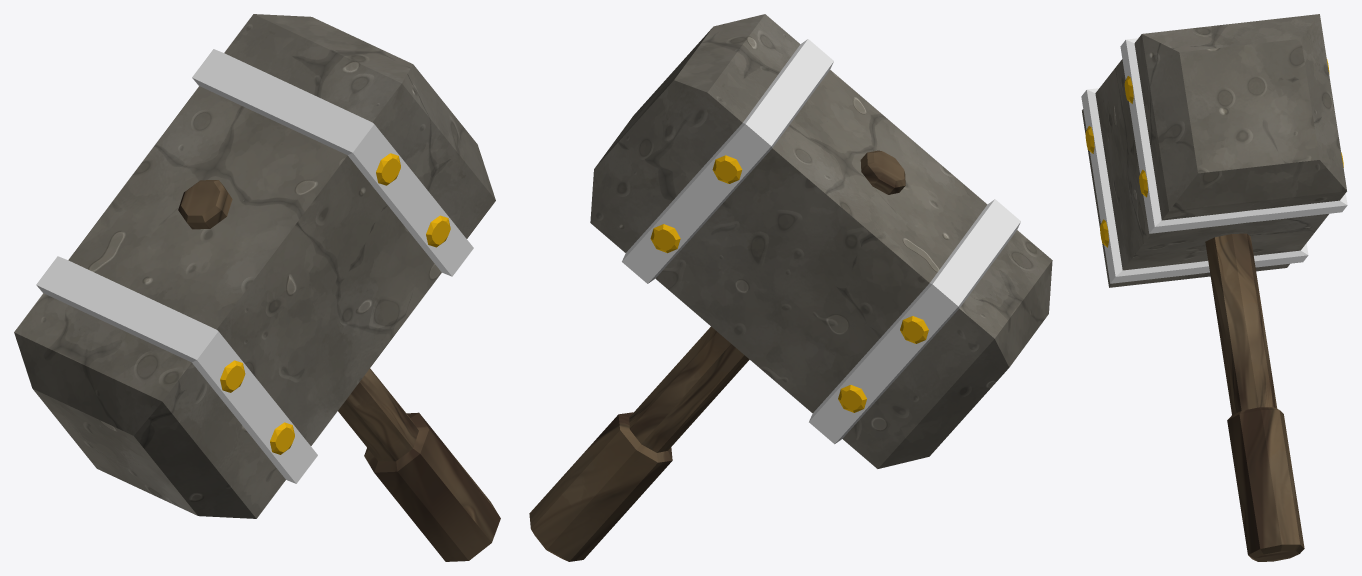
The model's file is Hammer .glb.
The picture shows the model from 3 angles, left to right: view 1: azimuth 30°, elevation 25°; view 2: azimuth 150°, elevation 25°; view 3: azimuth 270°, elevation 25°; orthographic projection. The views are drawn at different scales.
Parts seen in each view (by area): view 1: Cylinder; view 2: Cylinder; view 3: Cylinder.
Part boxes in pixels (left/top/right/bottom): Cylinder: left=14, top=14, right=500, bottom=561; Cylinder: left=529, top=14, right=1052, bottom=561; Cylinder: left=1081, top=14, right=1347, bottom=561.
Size of the model in its own units: 5.22 by 5.77 by 2.91.
5 materials, 2 textured.
